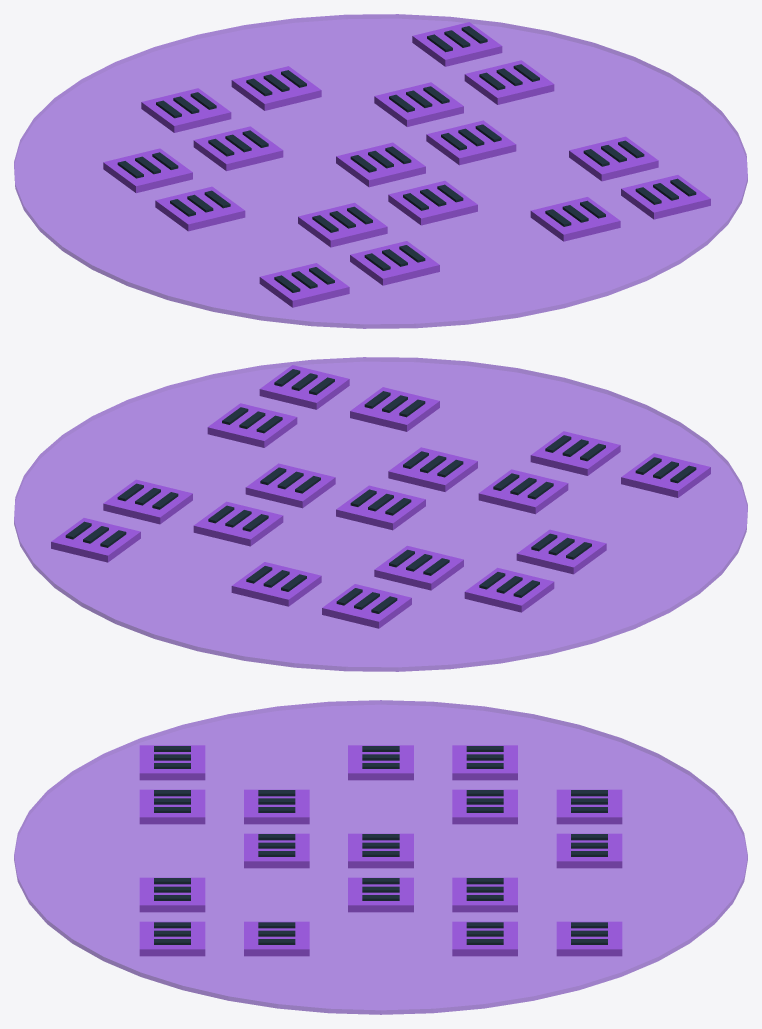
The model's file is 25_L75_DevelopedPhotoresistImplantMask.fbx.
3 views of the same model, one above another, from view 1: azimuth 30°, elevation 25°; view 2: azimuth 150°, elevation 25°; view 3: azimuth 270°, elevation 25° (orthographic).
Parts seen in each view (by area): view 1: DevelopedPhotoresistImplantMask; view 2: DevelopedPhotoresistImplantMask; view 3: DevelopedPhotoresistImplantMask.
Part boxes in pixels (box(x1,y1,x2,y2)): DevelopedPhotoresistImplantMask: box(14, 14, 747, 328); DevelopedPhotoresistImplantMask: box(14, 357, 747, 671); DevelopedPhotoresistImplantMask: box(14, 700, 747, 1014).
Bounding box in the file's own units: 162 × 3.75 × 162.
